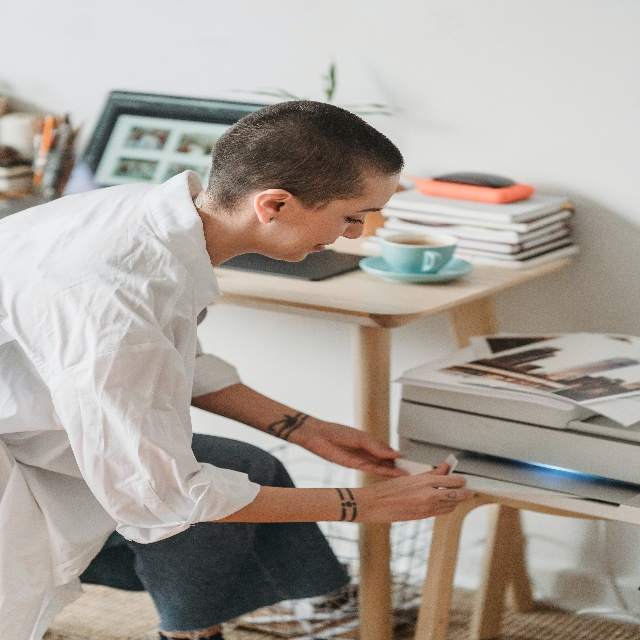Sin_guantes: (369, 460, 477, 524), (318, 419, 409, 480)
